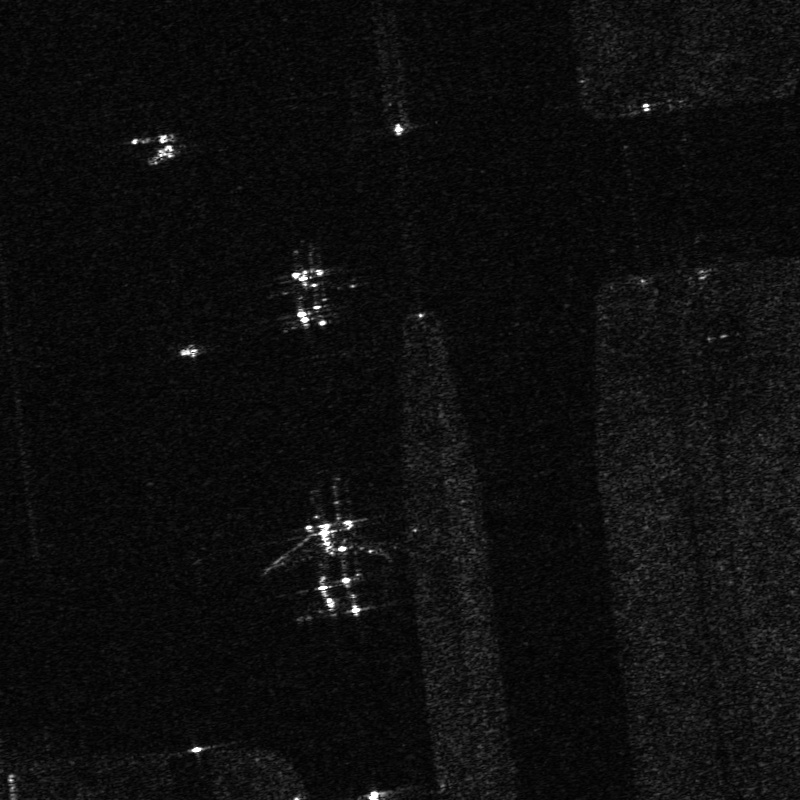Boeing787: (259, 236, 359, 334)
other: (261, 494, 399, 622)
